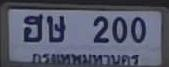0: (130, 16, 145, 42), (111, 16, 126, 42)
2: (93, 15, 108, 42)
A39: (46, 14, 65, 42)
A44: (23, 13, 42, 41)
BKK: (31, 50, 141, 67)
